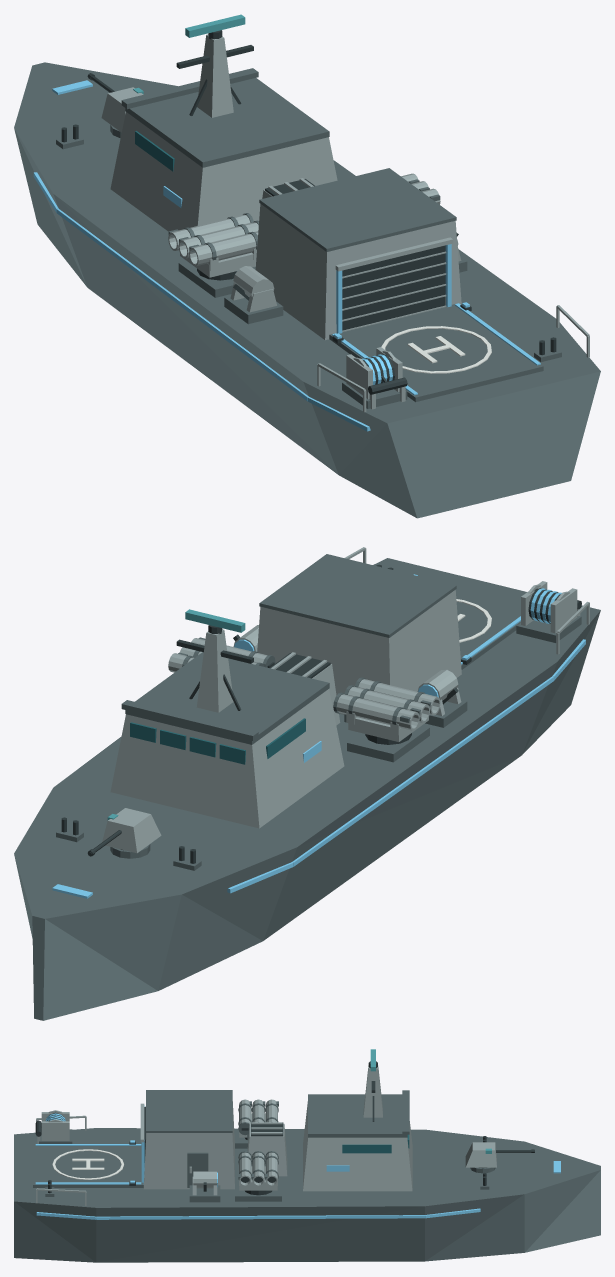
The model's file is ESC_ASW_T2.fbx.
The picture shows the model from 3 angles, top to bottom: view 1: azimuth 30°, elevation 25°; view 2: azimuth 150°, elevation 25°; view 3: azimuth 270°, elevation 25°; orthographic projection. The views are drawn at different scales.
Visible parts, largest first — view 1: ContinuousHull.005, Deckhouse.005, Roof.005, HelicopterDeck.001, HangarRoof, HelicopterHangar, AftFacingHangarDoor, NavMast.001, RoleHullStripe-1_1.005, TorpedoTube_P1.001, BridgeBrow.005, HangarDoorHeader (+10 smaller); view 2: ContinuousHull.005, Deckhouse.005, HelicopterHangar, HangarRoof, Roof.005, HelicopterDeck.001, NavMast.001, PrimaryGunCupola.005, RoleHullStripe-1_1.005, BridgeBrow.005, TorpedoTube_P3, TorpedoDeckFoundation_P.001 (+7 smaller); view 3: ContinuousHull.005, Deckhouse.005, HelicopterHangar, HelicopterDeck.001, Roof.005, HangarRoof, RoleHullStripe1_1.005, FunnelEnclosure.005, NavMast.001, PrimaryGunCupola.005, TowSonarWinchCheek.001, TorpedoDeckFoundation_S.001 (+10 smaller).
Part boxes in pixels (x1=…): ContinuousHull.005: x1=14, y1=62, x2=600, y2=518; Deckhouse.005: x1=110, y1=112, x2=337, y2=231; Roof.005: x1=125, y1=78, x2=329, y2=167; HelicopterDeck.001: x1=329, y1=304, x2=543, y2=402; HangarRoof: x1=259, y1=168, x2=456, y2=251; HelicopterHangar: x1=255, y1=204, x2=461, y2=340; AftFacingHangarDoor: x1=342, y1=245, x2=445, y2=330; NavMast.001: x1=197, y1=34, x2=233, y2=117; RoleHullStripe-1_1.005: x1=56, y1=208, x2=308, y2=400; TorpedoTube_P1.001: x1=189, y1=231, x2=258, y2=266; BridgeBrow.005: x1=121, y1=68, x2=258, y2=109; HangarDoorHeader: x1=335, y1=237, x2=453, y2=271; ContinuousHull.005: x1=14, y1=558, x2=600, y2=1020; Deckhouse.005: x1=110, y1=689, x2=344, y2=828; HelicopterHangar: x1=257, y1=590, x2=461, y2=714; HangarRoof: x1=259, y1=554, x2=456, y2=637; Roof.005: x1=125, y1=652, x2=329, y2=744; HelicopterDeck.001: x1=416, y1=574, x2=520, y2=669; NavMast.001: x1=196, y1=629, x2=233, y2=712; PrimaryGunCupola.005: x1=102, y1=808, x2=161, y2=853; RoleHullStripe-1_1.005: x1=292, y1=676, x2=553, y2=866; BridgeBrow.005: x1=121, y1=700, x2=258, y2=740; TorpedoTube_P3: x1=337, y1=694, x2=419, y2=730; TorpedoDeckFoundation_P.001: x1=347, y1=725, x2=429, y2=762; ContinuousHull.005: x1=14, y1=1128, x2=600, y2=1262; Deckhouse.005: x1=303, y1=1101, x2=412, y2=1191; HelicopterHangar: x1=143, y1=1101, x2=234, y2=1189; HelicopterDeck.001: x1=33, y1=1145, x2=143, y2=1187; Roof.005: x1=308, y1=1094, x2=407, y2=1137; HangarRoof: x1=146, y1=1090, x2=232, y2=1132; RoleHullStripe1_1.005: x1=96, y1=1215, x2=424, y2=1219; FunnelEnclosure.005: x1=247, y1=1123, x2=287, y2=1176; NavMast.001: x1=363, y1=1065, x2=382, y2=1117; PrimaryGunCupola.005: x1=465, y1=1142, x2=496, y2=1167; TowSonarWinchCheek.001: x1=41, y1=1121, x2=69, y2=1140; TorpedoDeckFoundation_S.001: x1=235, y1=1181, x2=281, y2=1201.
Bounding box in the file's own units: 290 × 297 × 900.
